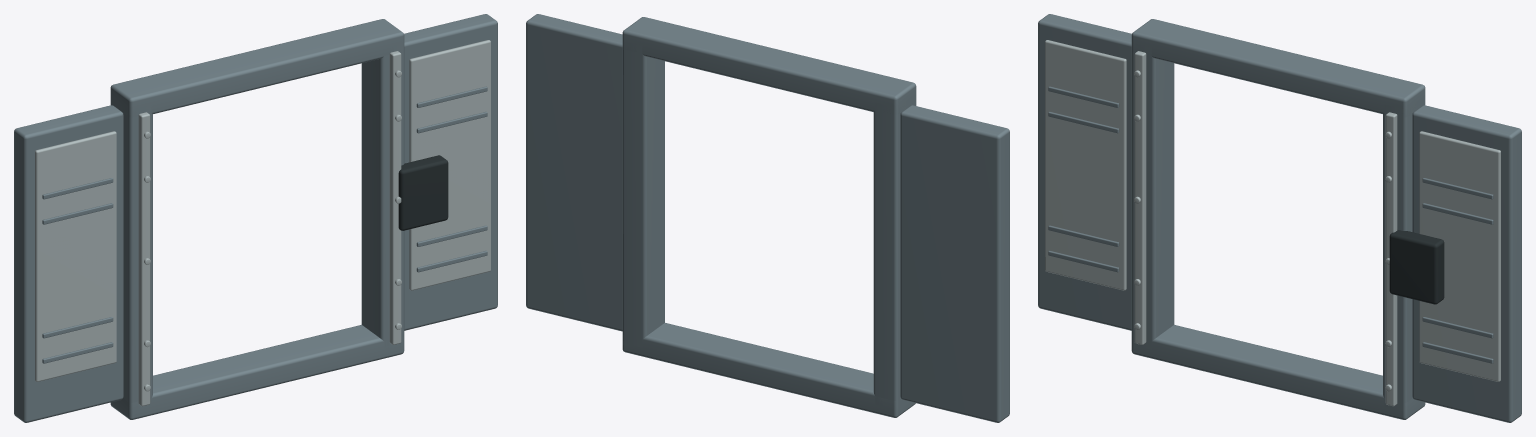
Rendered from stormworks_precision_bulkhead_v1.glb.
3 renders of one model, left to right at view 1: azimuth 30°, elevation 25°; view 2: azimuth 150°, elevation 25°; view 3: azimuth 330°, elevation 25°, orthographic.
Visible parts, largest first — view 1: ConsoleInset, ConsoleInset.001, ValveSideConsole, PortalCrossmember.001, PortalCrossmember, MachinedPortalUpright.001, ValveSideConsole.001, MachinedPortalUpright, PortalInboardTrim, PortalInboardTrim.001, ValveInstrumentMount; view 2: ValveSideConsole, ValveSideConsole.001, MachinedPortalUpright.001, PortalCrossmember.001, PortalCrossmember, MachinedPortalUpright; view 3: ConsoleInset, ConsoleInset.001, ValveSideConsole.001, PortalCrossmember.001, PortalCrossmember, MachinedPortalUpright, ValveSideConsole, MachinedPortalUpright.001, ValveInstrumentMount, PortalInboardTrim, PortalInboardTrim.001.
Boxes of the visible parts, <box> form: ConsoleInset: <box>35,131,116,381</box>; ConsoleInset.001: <box>409,40,490,290</box>; ValveSideConsole: <box>14,105,123,422</box>; PortalCrossmember.001: <box>110,19,404,117</box>; PortalCrossmember: <box>110,325,404,419</box>; MachinedPortalUpright.001: <box>361,42,404,349</box>; ValveSideConsole.001: <box>404,14,497,330</box>; MachinedPortalUpright: <box>110,96,152,410</box>; PortalInboardTrim: <box>138,112,150,406</box>; PortalInboardTrim.001: <box>389,51,401,344</box>; ValveInstrumentMount: <box>398,155,448,230</box>; ValveSideConsole: <box>900,105,1009,422</box>; ValveSideConsole.001: <box>526,14,622,331</box>; MachinedPortalUpright.001: <box>622,40,664,347</box>; PortalCrossmember.001: <box>622,17,916,114</box>; PortalCrossmember: <box>622,323,915,417</box>; MachinedPortalUpright: <box>873,93,916,408</box>; ConsoleInset: <box>1045,40,1126,290</box>; ConsoleInset.001: <box>1419,131,1500,381</box>; ValveSideConsole.001: <box>1412,105,1521,422</box>; PortalCrossmember.001: <box>1131,19,1425,117</box>; PortalCrossmember: <box>1131,325,1425,419</box>; MachinedPortalUpright: <box>1131,44,1174,349</box>; ValveSideConsole: <box>1038,14,1131,330</box>; MachinedPortalUpright.001: <box>1383,95,1425,411</box>; ValveInstrumentMount: <box>1389,229,1444,304</box>; PortalInboardTrim: <box>1134,51,1146,344</box>; PortalInboardTrim.001: <box>1385,112,1397,406</box>.
Size of the model in its own units: 3.93 by 2.55 by 0.395.
